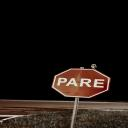Pare: (50, 68, 115, 99)
